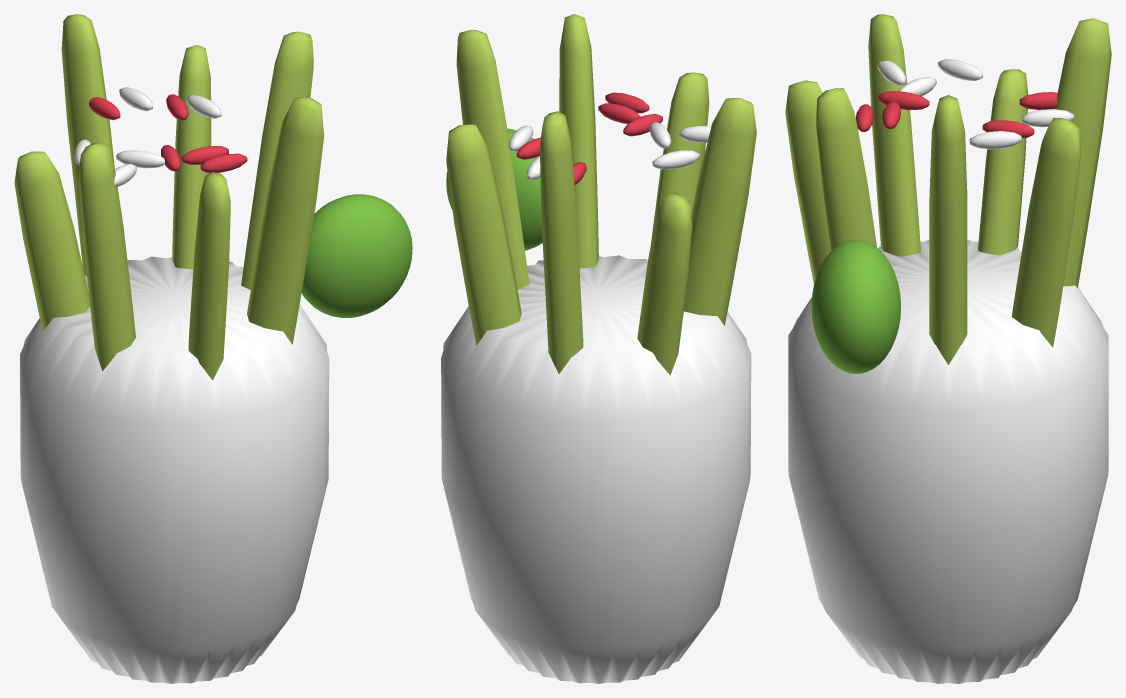
File: comida_mango_biche.glb
3 renders of one model, left to right at view 1: azimuth 30°, elevation 25°; view 2: azimuth 150°, elevation 25°; view 3: azimuth 270°, elevation 25°, orthographic. The views are drawn at different scales.
Visible parts, largest first — view 1: vaso mango.001, mango 6.001, limón.001, mango 4.001, mango 3.001, mango 5.001, mango 1.001, mango 2.001, mango 0.001, chispa 6.005, chispa 7.005; view 2: vaso mango.001, mango 4.001, mango 1.001, mango 2.001, mango 0.001, mango 3.001, mango 6.001, mango 5.001, limón.001, chispa 4.005, chispa 9.005, chispa 7.005 (+1 smaller); view 3: vaso mango.001, limón.001, mango 1.001, mango 0.001, mango 4.001, mango 2.001, mango 6.001, mango 3.001, mango 5.001, chispa 2.005, chispa 5.005, chispa 4.005 (+3 smaller).
Boxes of the visible parts, left/top/right/bottom form: vaso mango.001: left=20, top=256, right=329, bottom=683; mango 6.001: left=247, top=97, right=324, bottom=344; limón.001: left=301, top=194, right=412, bottom=317; mango 4.001: left=78, top=142, right=135, bottom=371; mango 3.001: left=14, top=151, right=89, bottom=331; mango 5.001: left=188, top=172, right=230, bottom=380; mango 1.001: left=172, top=45, right=211, bottom=268; mango 2.001: left=61, top=14, right=114, bottom=275; mango 0.001: left=241, top=31, right=313, bottom=289; chispa 6.005: left=116, top=150, right=164, bottom=168; chispa 7.005: left=200, top=153, right=247, bottom=172; vaso mango.001: left=441, top=255, right=751, bottom=683; mango 4.001: left=684, top=98, right=756, bottom=325; mango 1.001: left=446, top=124, right=521, bottom=345; mango 2.001: left=540, top=111, right=583, bottom=373; mango 0.001: left=456, top=29, right=529, bottom=289; mango 3.001: left=637, top=192, right=692, bottom=375; mango 6.001: left=559, top=14, right=598, bottom=268; mango 5.001: left=651, top=72, right=709, bottom=242; limón.001: left=446, top=128, right=542, bottom=250; chispa 4.005: left=652, top=150, right=699, bottom=169; chispa 9.005: left=598, top=103, right=640, bottom=123; chispa 7.005: left=605, top=92, right=649, bottom=113; vaso mango.001: left=788, top=240, right=1108, bottom=683; limón.001: left=811, top=240, right=900, bottom=373; mango 1.001: left=1011, top=118, right=1080, bottom=347; mango 0.001: left=929, top=95, right=967, bottom=364; mango 4.001: left=868, top=14, right=920, bottom=256; mango 2.001: left=1054, top=18, right=1111, bottom=287; mango 6.001: left=815, top=88, right=876, bottom=251; mango 3.001: left=978, top=69, right=1028, bottom=255; mango 5.001: left=785, top=80, right=830, bottom=283; chispa 2.005: left=969, top=131, right=1021, bottom=149; chispa 5.005: left=878, top=91, right=929, bottom=110; chispa 4.005: left=938, top=59, right=982, bottom=80.
Bounding box in the file's own units: 0.1688 × 0.2988 × 0.1417.
